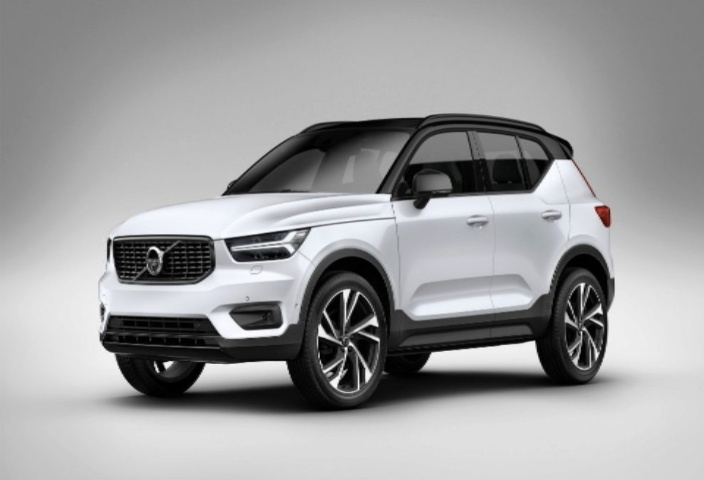camper: (54, 97, 623, 418)
